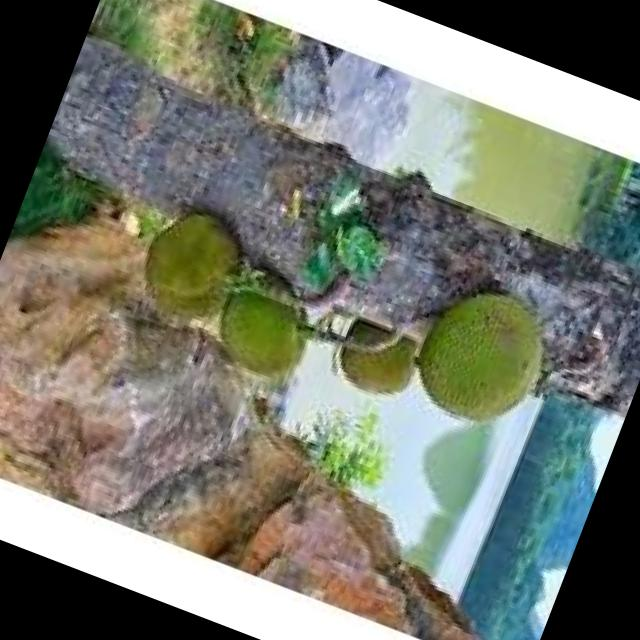Fruit: (386, 258, 580, 456)
